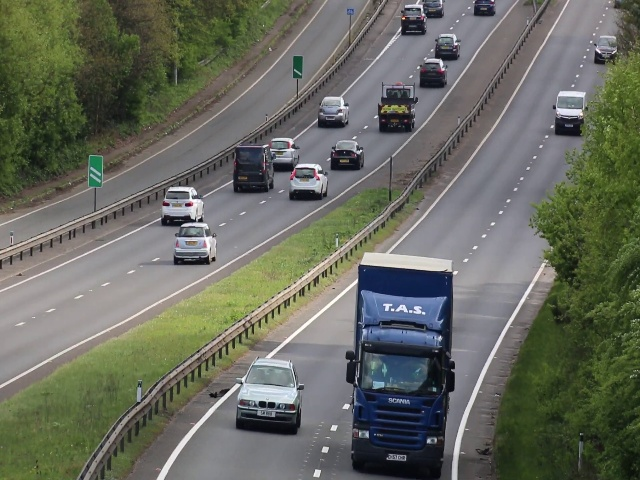car: (355, 325, 447, 474), (237, 359, 303, 435), (229, 145, 277, 193), (174, 220, 217, 264), (377, 82, 415, 131), (159, 186, 207, 223), (290, 162, 329, 200), (555, 90, 586, 137), (317, 95, 350, 128), (331, 140, 365, 171), (418, 57, 448, 90), (269, 138, 301, 167), (401, 6, 426, 35), (435, 33, 460, 59), (595, 34, 616, 63), (422, 1, 444, 17), (473, 1, 494, 17)
